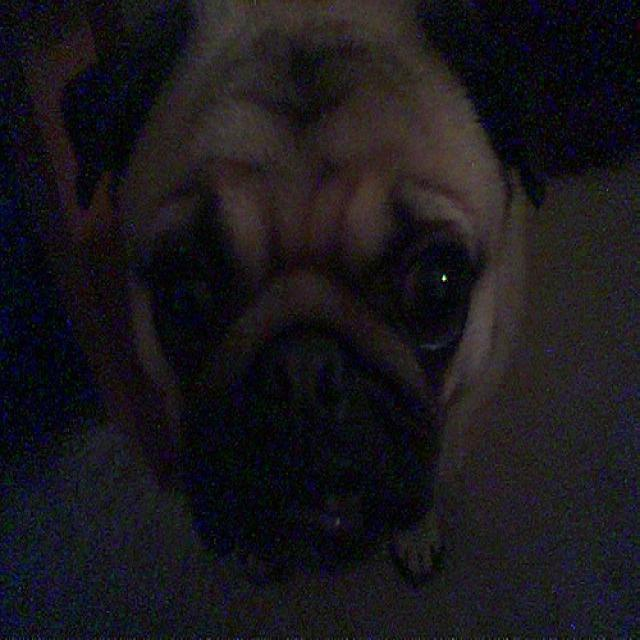Dog: (51, 5, 606, 640)
